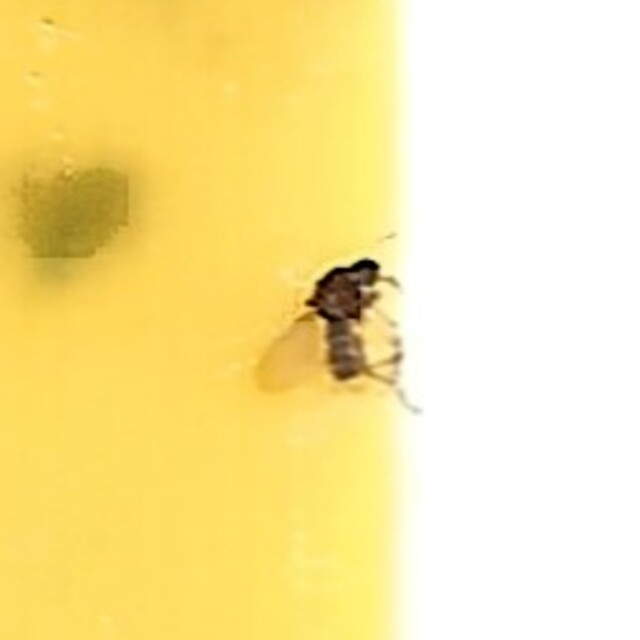Brachycera: (252, 243, 388, 397)
